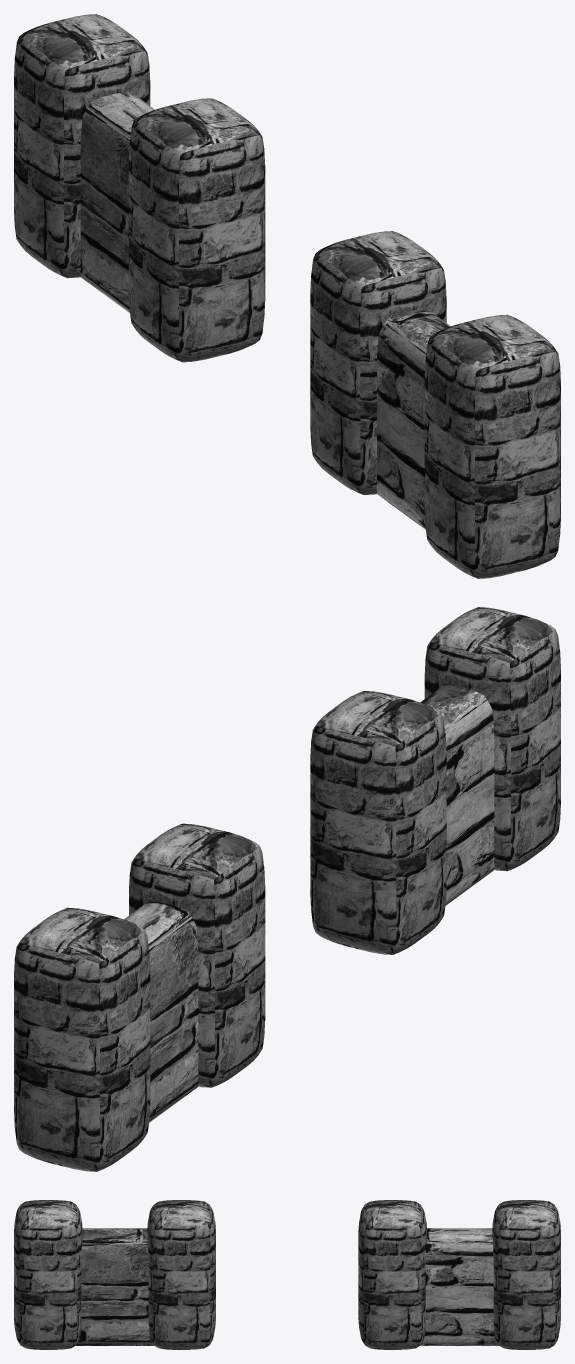
File: mur03.fbx
3 renders of one model, top to bottom at view 1: azimuth 30°, elevation 25°; view 2: azimuth 150°, elevation 25°; view 3: azimuth 270°, elevation 25°, orthographic. The views are drawn at different scales.
Parts seen in each view (by area): view 1: pil03.001, pil01.002, pil01.003, pil01.001, mur02.001, mur02.002; view 2: pil01.001, pil01.003, pil01.002, pil03.001, mur02.001, mur02.002; view 3: pil01.002, pil01.001, pil01.003, pil03.001, mur02.001, mur02.002.
Boxes of the visible parts, x1,y1,x2,y2 form: pil03.001: [424, 314, 560, 578]; pil01.002: [129, 98, 265, 362]; pil01.003: [310, 231, 446, 494]; pil01.001: [14, 14, 150, 278]; mur02.001: [80, 92, 154, 312]; mur02.002: [376, 309, 450, 529]; pil01.001: [14, 907, 150, 1171]; pil01.003: [310, 691, 446, 954]; pil01.002: [129, 823, 265, 1087]; pil03.001: [424, 607, 560, 871]; mur02.001: [124, 902, 198, 1122]; mur02.002: [420, 685, 494, 905]; pil01.002: [358, 1200, 426, 1349]; pil01.001: [492, 1200, 560, 1349]; pil01.003: [147, 1200, 215, 1349]; pil03.001: [14, 1200, 82, 1349]; mur02.001: [420, 1228, 498, 1345]; mur02.002: [76, 1228, 153, 1345].
Size of the model in its own units: 38.93 by 83.84 by 310.
